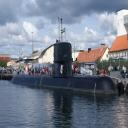submarine: (11, 46, 122, 95)
